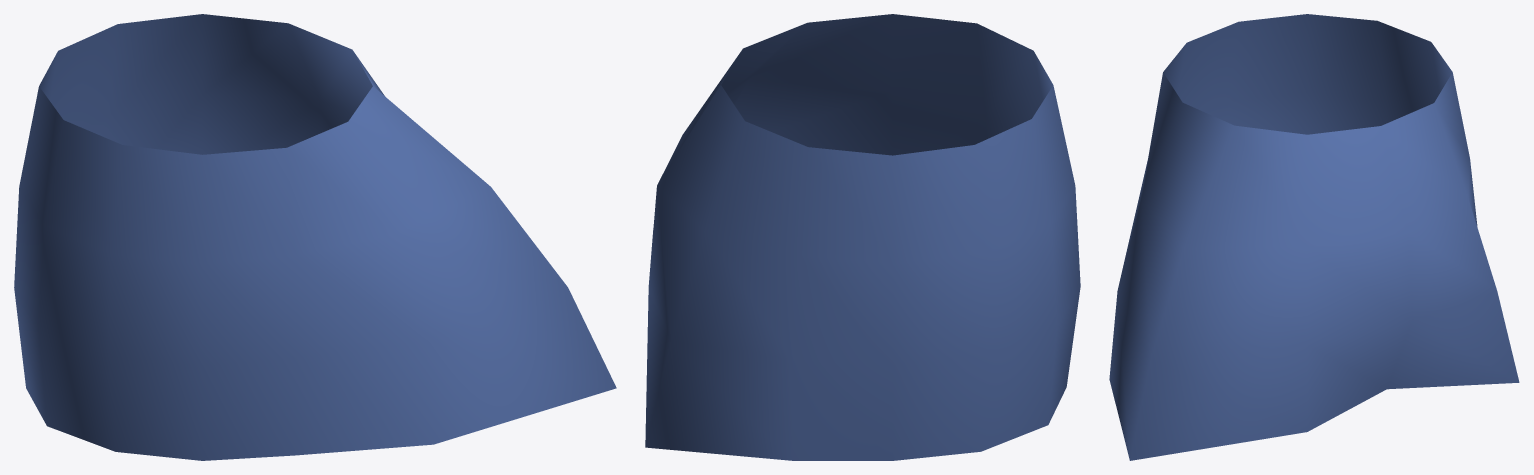
The model's file is spectre_armor_pauldron.L.glb.
The picture shows the model from 3 angles, left to right: view 1: azimuth 30°, elevation 25°; view 2: azimuth 150°, elevation 25°; view 3: azimuth 270°, elevation 25°; orthographic projection. The views are drawn at different scales.
Parts seen in each view (by area): view 1: spectre_armor_pauldron.L; view 2: spectre_armor_pauldron.L; view 3: spectre_armor_pauldron.L.
Part boxes in pixels (left/top/right/bottom): spectre_armor_pauldron.L: left=14, top=14, right=616, bottom=460; spectre_armor_pauldron.L: left=645, top=14, right=1080, bottom=460; spectre_armor_pauldron.L: left=1109, top=14, right=1519, bottom=460.
Bounding box in the file's own units: 0.2451 × 0.149 × 0.2139.
